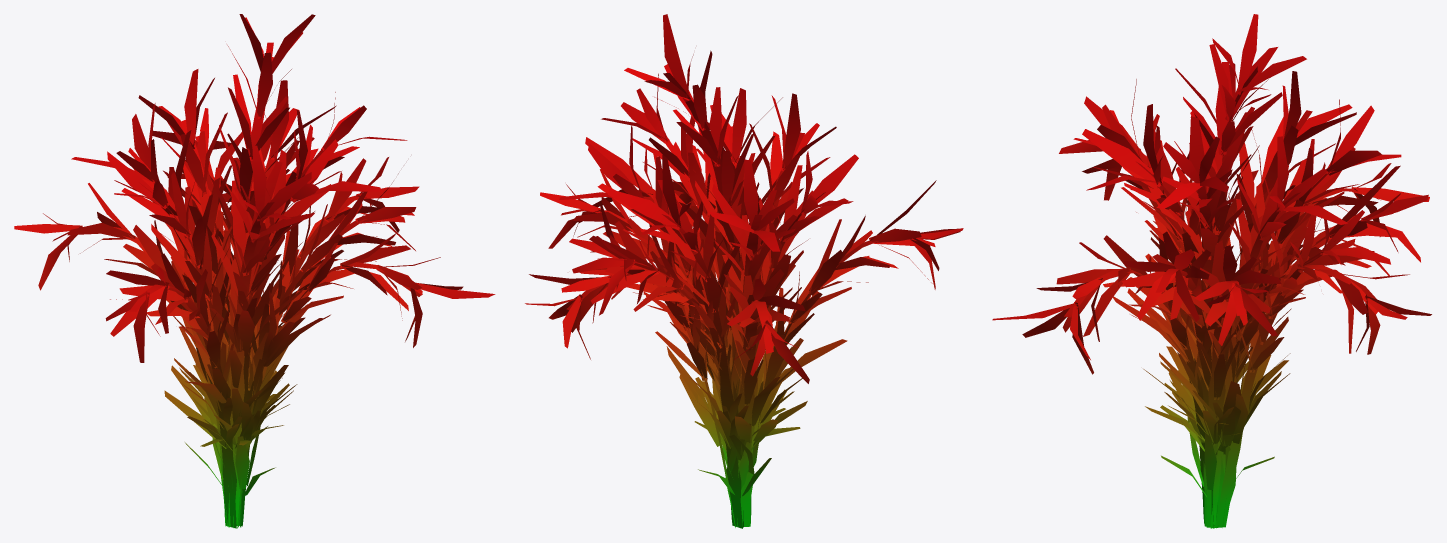
Rendered from Var9_LOD3.fbx.
3 renders of one model, left to right at view 1: azimuth 30°, elevation 25°; view 2: azimuth 150°, elevation 25°; view 3: azimuth 270°, elevation 25°, orthographic. The views are drawn at different scales.
Visible parts, largest first — view 1: _re32_Var9_LOD3; view 2: _re32_Var9_LOD3; view 3: _re32_Var9_LOD3.
Part boxes in pixels (x1,y1,x2,y2): _re32_Var9_LOD3: [14, 14, 495, 528]; _re32_Var9_LOD3: [525, 14, 963, 528]; _re32_Var9_LOD3: [992, 14, 1431, 528].
Bounding box in the file's own units: 24.74 × 32.81 × 24.79.
